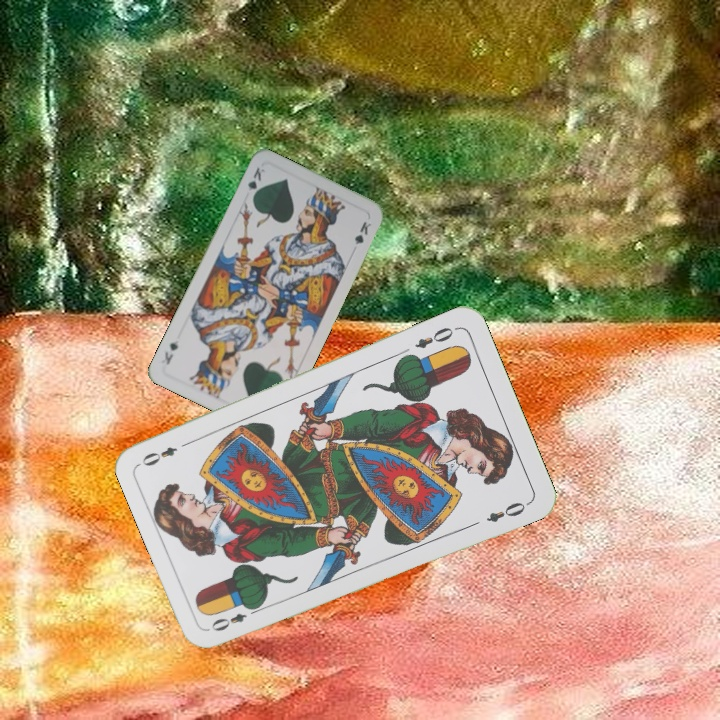EO: (207, 602, 263, 634), (411, 323, 456, 351)
GK: (244, 163, 268, 202)
